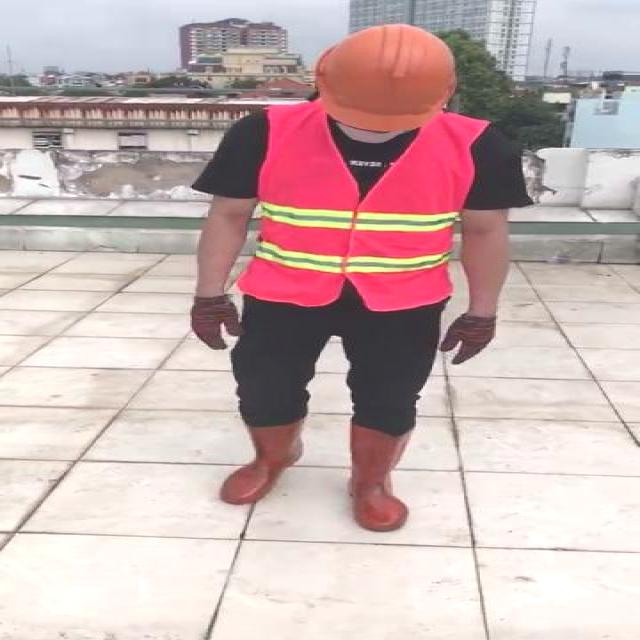boots: (217, 414, 306, 506), (346, 424, 419, 533)
hand_glove: (190, 295, 246, 349), (438, 313, 494, 364)
head_helmet: (314, 24, 466, 129)
person: (176, 22, 517, 546)
vest: (240, 106, 484, 307)
